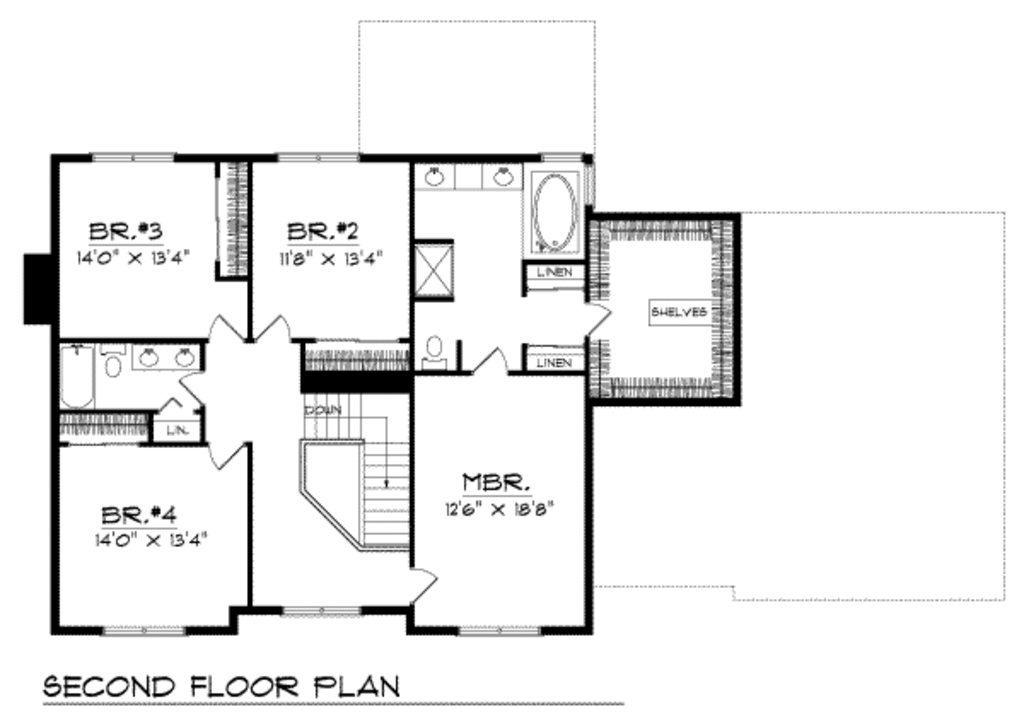door: (207, 441, 247, 476), (404, 569, 440, 604), (206, 313, 243, 347), (470, 346, 511, 376), (173, 368, 202, 406), (254, 313, 293, 341), (590, 300, 614, 338)
large_sink: (418, 333, 446, 373), (95, 337, 122, 378)
small_sink: (414, 157, 517, 191), (128, 340, 204, 370)
stairs: (300, 388, 411, 560)
tub: (518, 164, 585, 251), (58, 340, 98, 411)
window: (104, 624, 188, 639), (88, 148, 176, 161), (275, 150, 363, 163), (280, 604, 361, 617), (461, 622, 541, 633), (542, 147, 588, 163)
